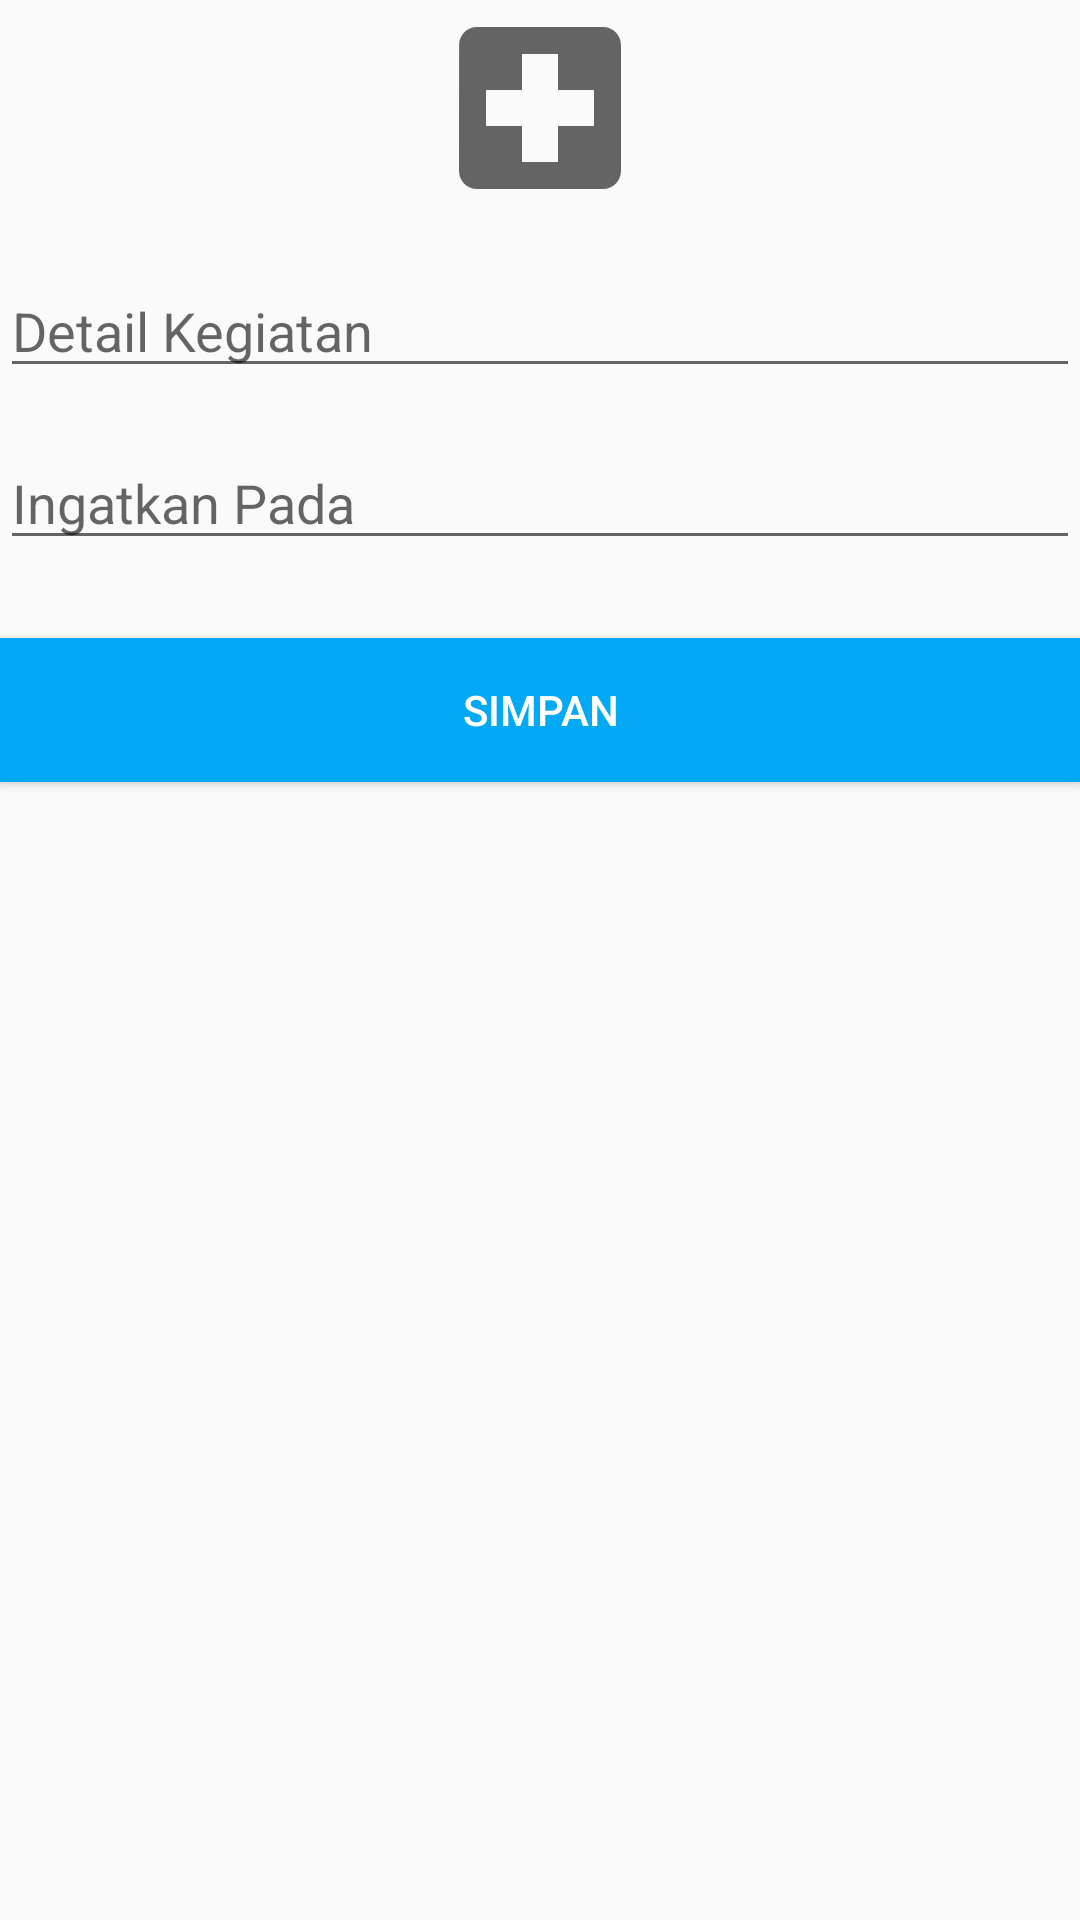

Named icons in this screenshot (1080 × 1920) and their centers, (x,y):
medicine: (540,108)
